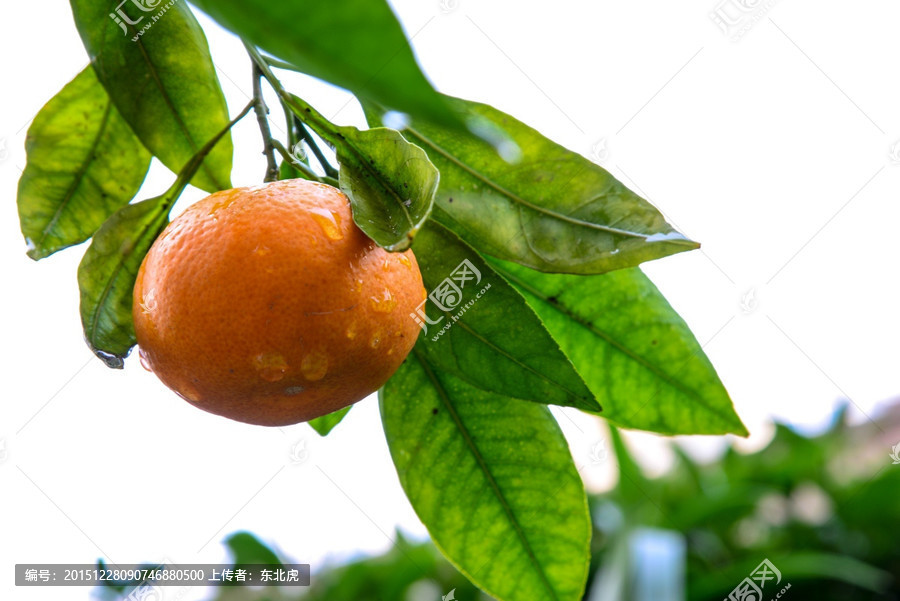orange: (132, 179, 424, 426)
